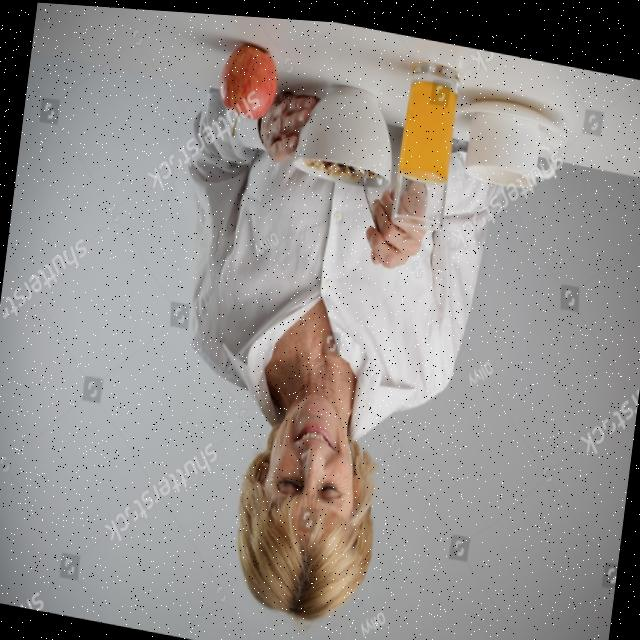eating-person: (129, 9, 582, 640)
